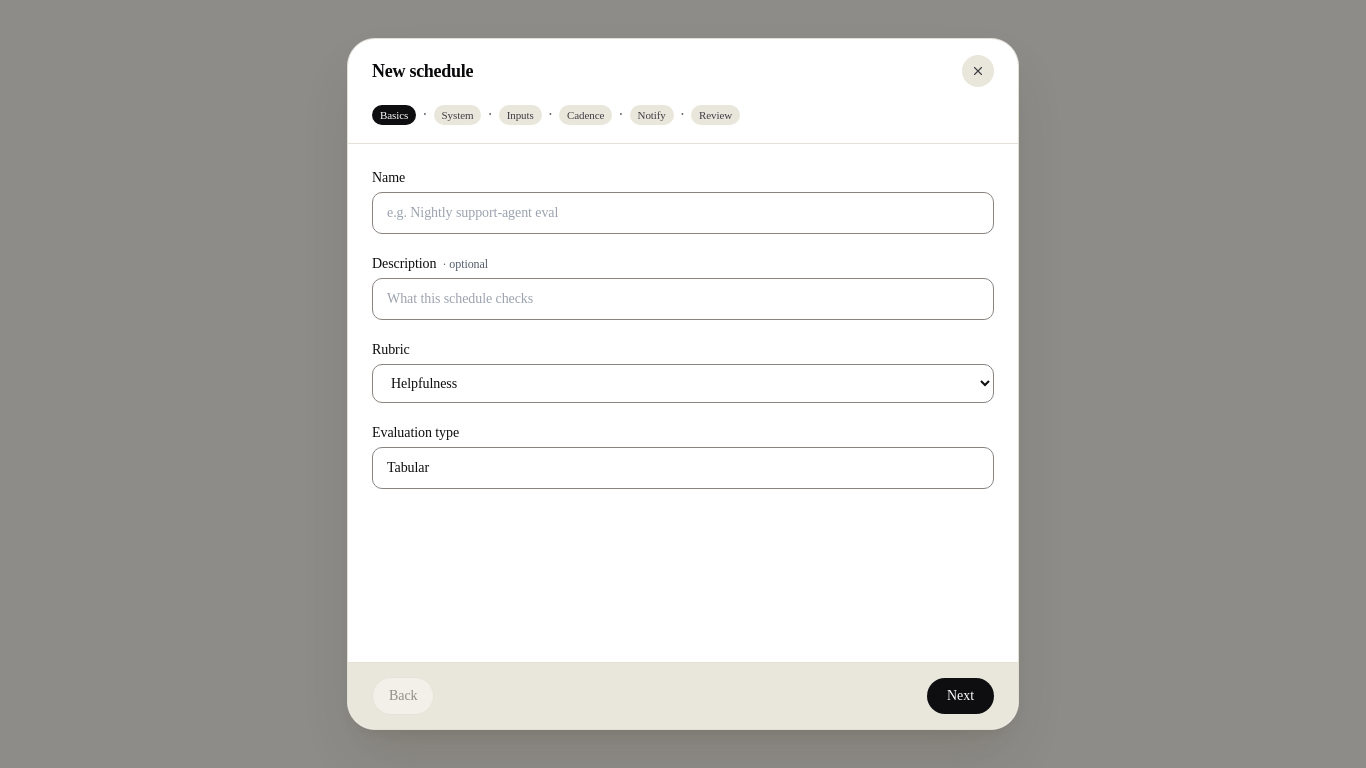
ScheduleWizard — Basics validation (#390) › requires a name before advancing past Basics
Click the button "Next" at (961, 696), box [927,678,994,714]
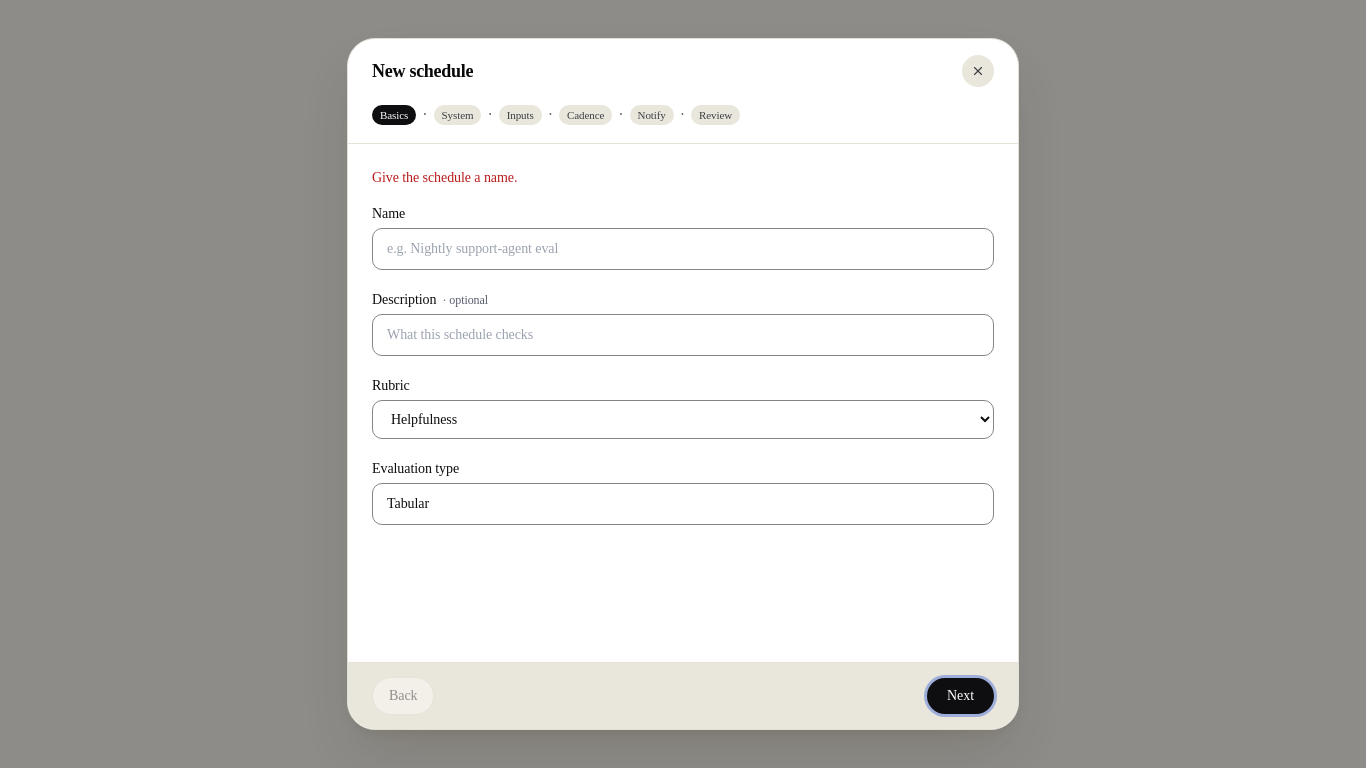
Check: the message reads "Give the schedule a name.", box [372,170,517,185]
